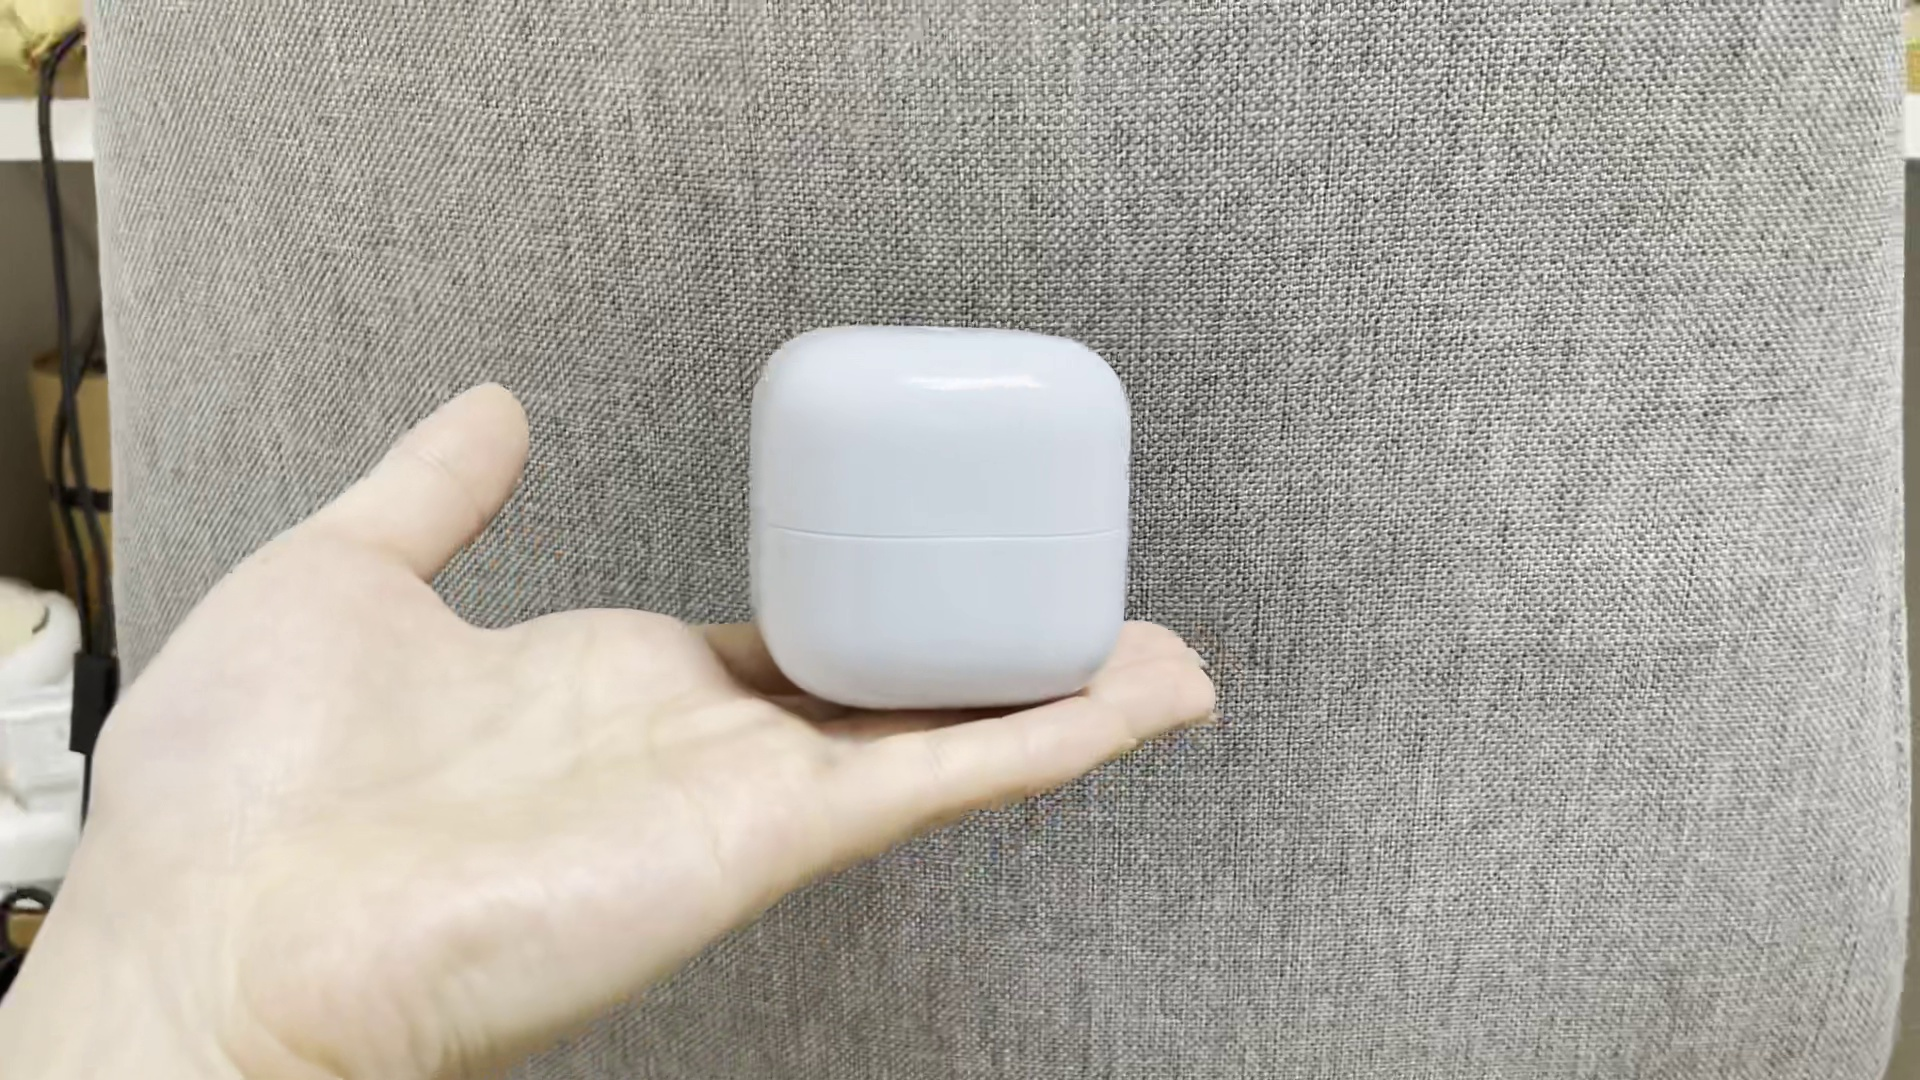cream: (756, 324, 1134, 700)
